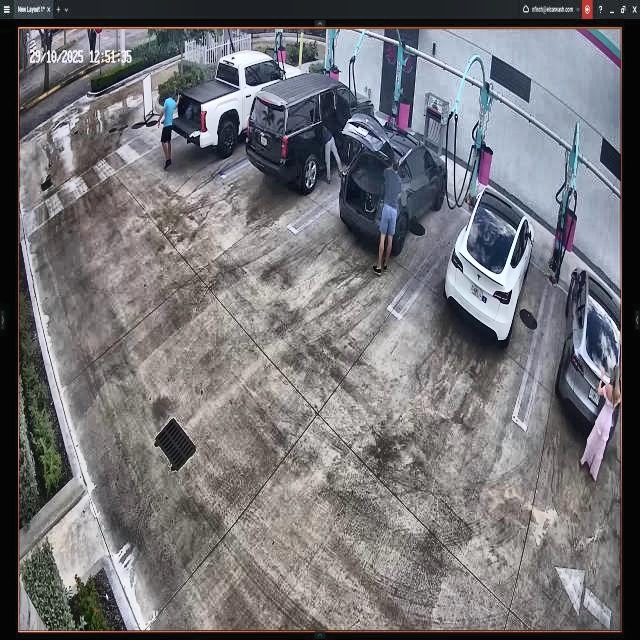Car: (340, 108, 447, 249), (248, 74, 372, 194), (445, 187, 535, 343), (172, 49, 301, 152)
